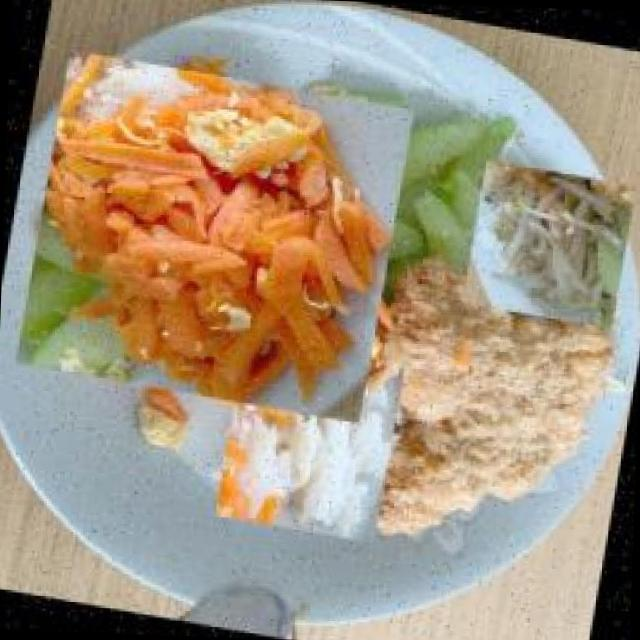carrot_eggs: (14, 48, 417, 426)
fried_chicken: (352, 254, 620, 570)
mung_bean_sprouts: (460, 157, 638, 331)
rice: (210, 338, 410, 540)
